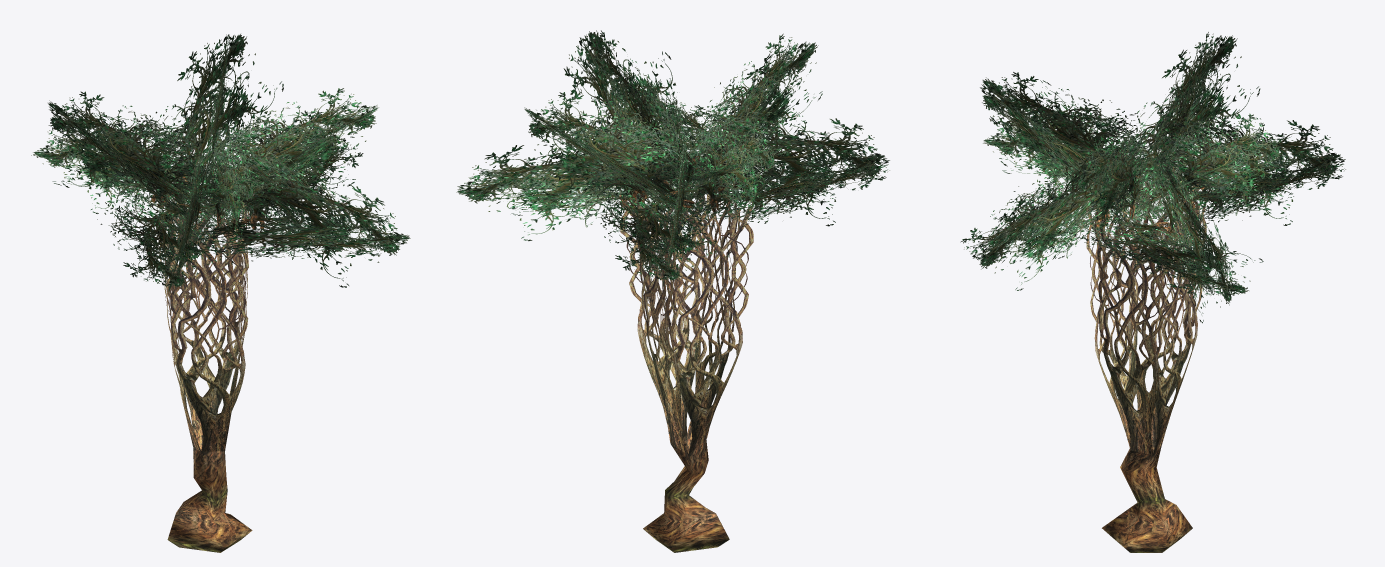
Rendered from decd_flutevine_l1.fbx.
3 renders of one model, left to right at view 1: azimuth 30°, elevation 25°; view 2: azimuth 150°, elevation 25°; view 3: azimuth 270°, elevation 25°, orthographic. The views are drawn at different scales.
Parts seen in each view (by area): view 1: mesh_node; view 2: mesh_node; view 3: mesh_node.
Boxes of the visible parts, left/top/right/bottom form: mesh_node: left=31, top=34, right=410, bottom=552; mesh_node: left=456, top=30, right=889, bottom=552; mesh_node: left=960, top=32, right=1345, bottom=552.
Bounding box in the file's own units: 12.99 × 16.63 × 13.65.
